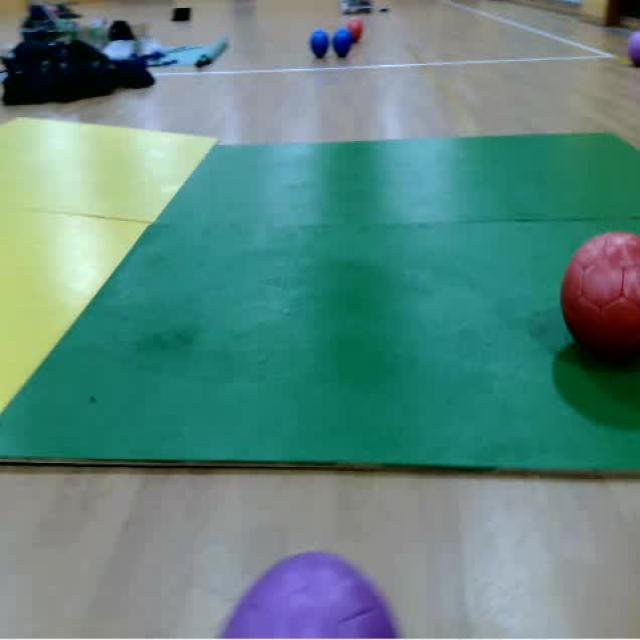blue_ball: (310, 30, 330, 60), (333, 30, 352, 60)
purple_ball: (212, 551, 400, 640), (626, 27, 640, 68)
red_ball: (556, 227, 640, 366), (352, 18, 364, 42)
